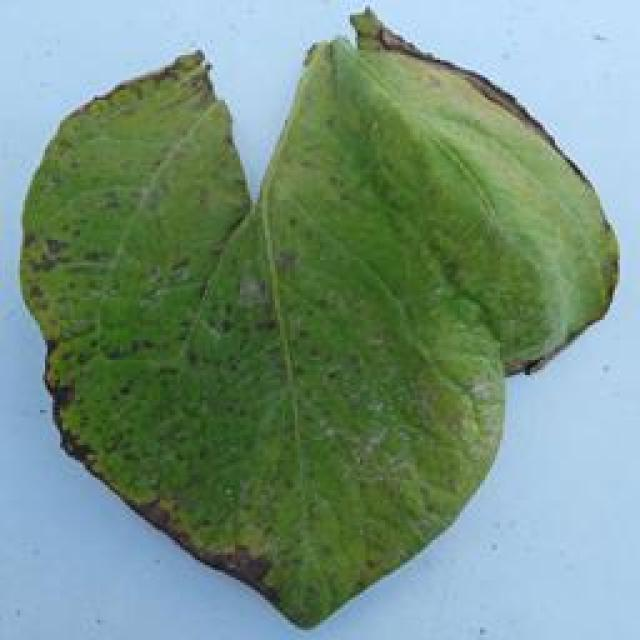Potato_Early_Blight: (17, 17, 622, 640)
